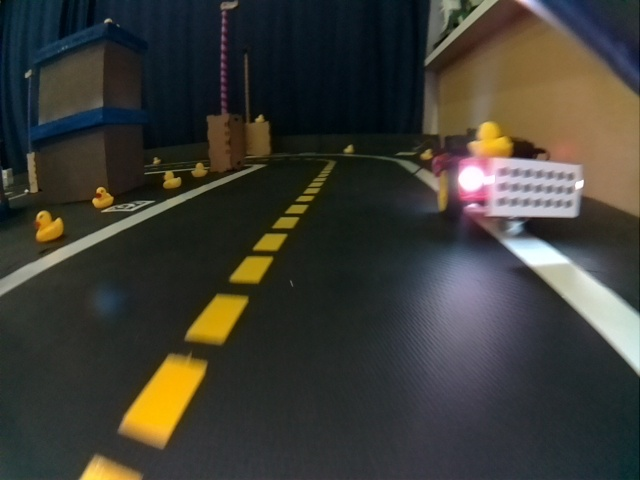Duckie: (470, 123, 513, 159), (34, 211, 63, 239), (92, 186, 113, 208), (164, 171, 181, 188), (192, 163, 205, 176), (419, 150, 431, 160), (344, 144, 353, 154), (257, 115, 265, 124)
Duckiebot: (434, 149, 583, 219)
QR code: (109, 201, 155, 210)
